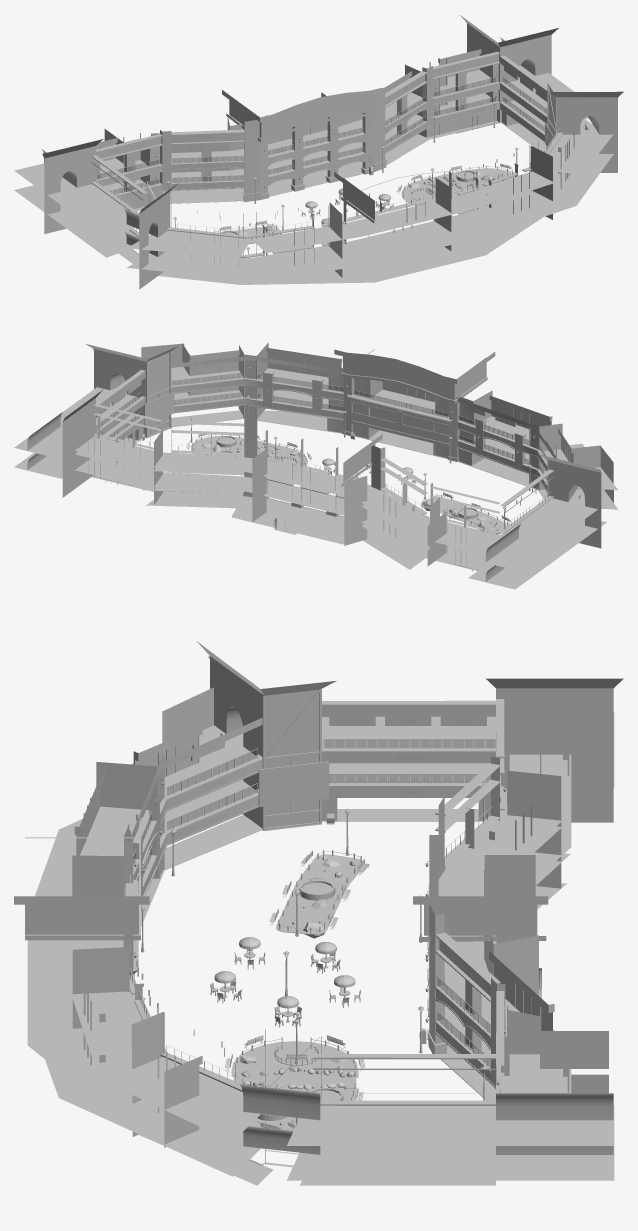
3 views of the same model, one above another, from view 1: azimuth 30°, elevation 25°; view 2: azimuth 150°, elevation 25°; view 3: azimuth 270°, elevation 25° (orthographic). The views are drawn at different scales.
Parts seen in each view (by area): view 1: Outlet3, Outlet1, Outlet2, Outlet4, Shop01, Fence001, Fence002, Garden01, Shop02, Sign; view 2: Outlet3, Outlet1, Outlet4, Outlet2, Shop02, Fence003, Fence002, Garden01, Pannel002, Shop01, Garden03; view 3: Outlet3, Outlet2, Outlet1, Outlet4, Fence002, Garden01, Shop02, Garden03, Shop01, Pannel002, Fence001, Sign.
Part boxes in pixels (box(x1,y1,x2,y2)): Outlet3: box(126, 129, 613, 284); Outlet1: box(96, 51, 499, 210); Outlet2: box(14, 139, 178, 289); Outlet4: box(460, 15, 623, 172); Shop01: box(96, 49, 499, 207); Fence001: box(172, 96, 426, 182); Fence002: box(93, 77, 558, 235); Garden01: box(401, 168, 514, 205); Shop02: box(190, 131, 574, 267); Sign: box(109, 60, 542, 187); Outlet3: box(141, 342, 617, 509); Outlet1: box(75, 404, 500, 570); Outlet4: box(14, 344, 178, 497); Outlet2: box(468, 446, 607, 589); Shop02: box(189, 348, 574, 462); Fence003: box(257, 374, 528, 464); Fence002: box(96, 372, 551, 531); Garden01: box(191, 435, 307, 468); Pannel002: box(96, 358, 554, 516); Shop01: box(88, 436, 484, 571); Garden03: box(420, 496, 508, 533); Outlet3: box(14, 687, 273, 1185); Outlet2: box(196, 641, 623, 830); Outlet1: box(413, 699, 608, 1100); Outlet4: box(239, 1029, 614, 1185); Fence002: box(166, 739, 500, 1126); Garden01: box(231, 1041, 358, 1131); Shop02: box(74, 726, 202, 1130); Garden03: box(276, 854, 364, 934); Shop01: box(484, 736, 569, 1092); Pannel002: box(129, 716, 486, 1056); Fence001: box(437, 806, 492, 1068); Sign: box(134, 720, 470, 1053).
Size of the model in its own units: 130 by 23.53 by 74.89.
